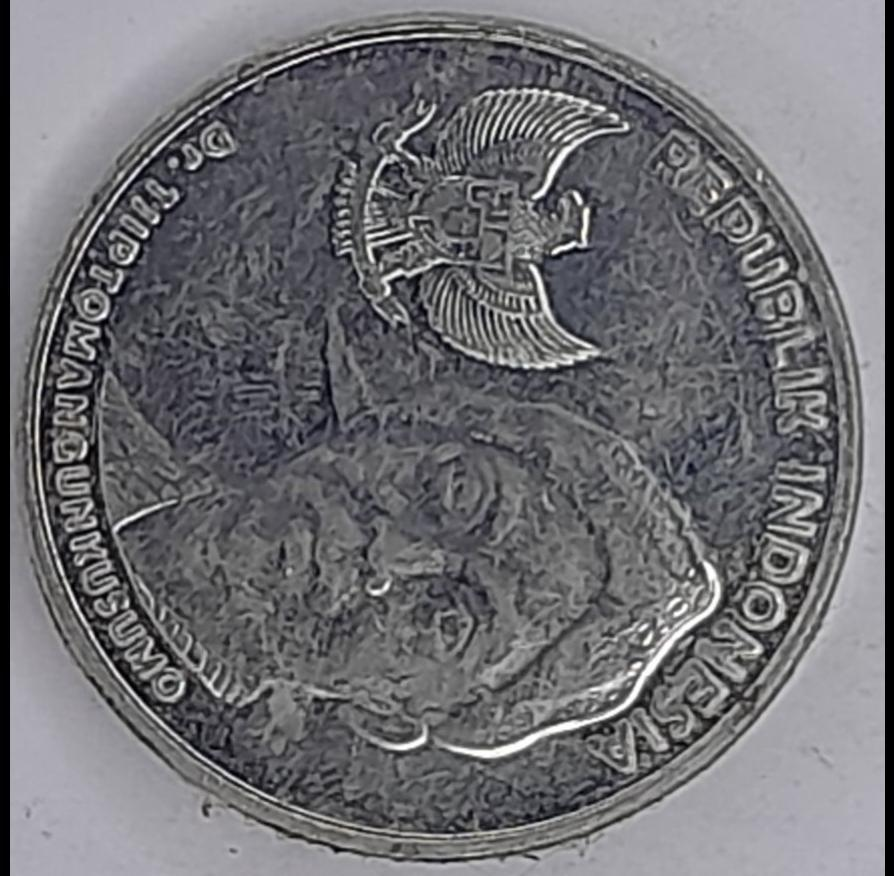coin_200_e2016: (0, 15, 894, 876)
